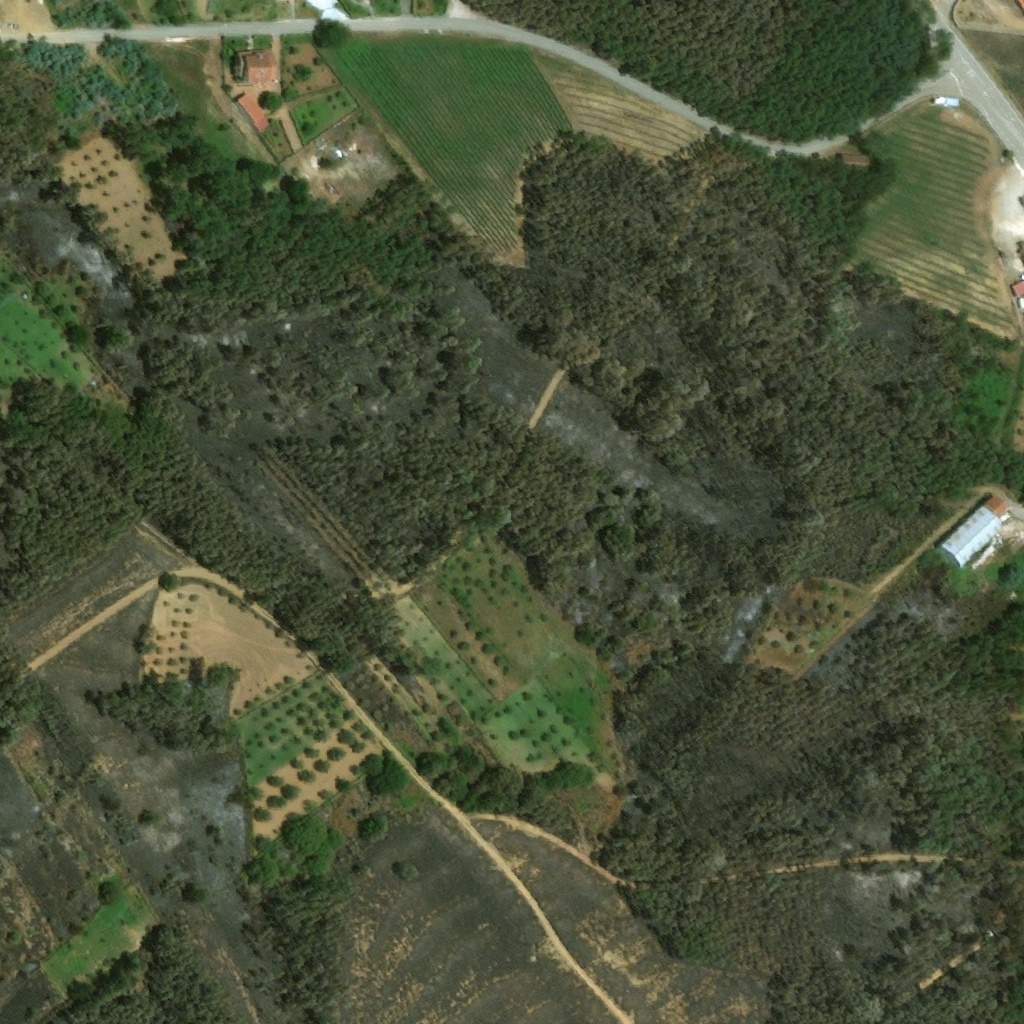0 no-damage: (939, 494, 1010, 568), (237, 50, 278, 83), (235, 94, 268, 134), (839, 153, 872, 171), (943, 98, 960, 108), (933, 99, 942, 106)
4 un-classified: (1010, 281, 1023, 297)
